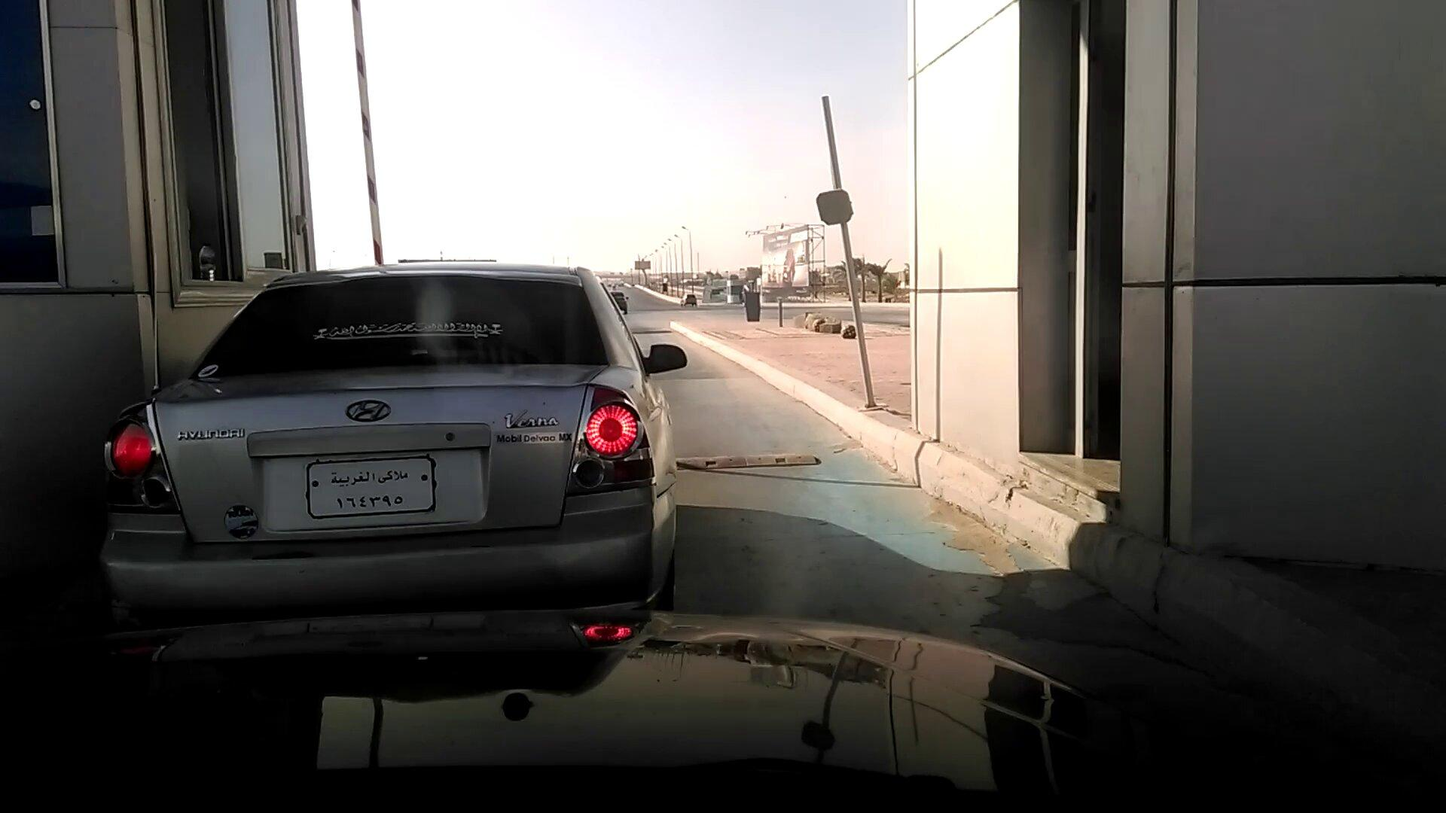Bump: (671, 453, 820, 470)
